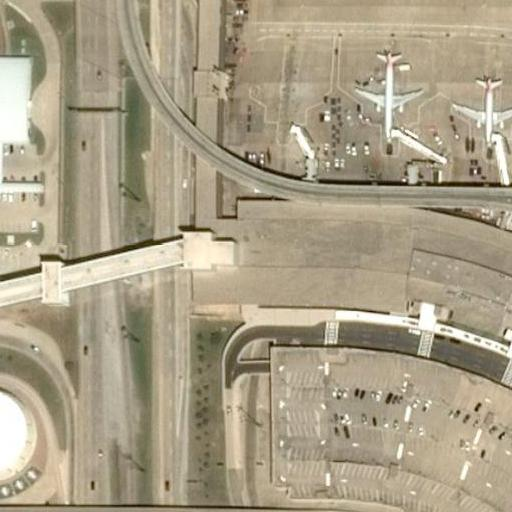Aircraft: (351, 52, 417, 141), (455, 77, 512, 148)
